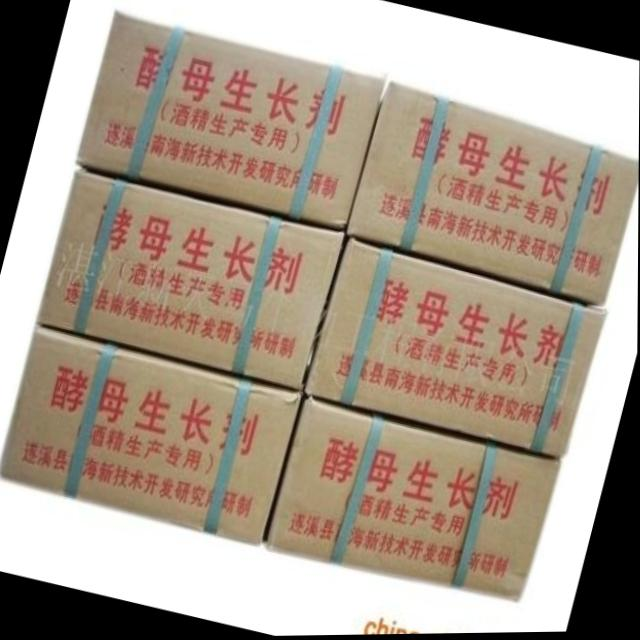box: (75, 10, 387, 232), (35, 171, 343, 392), (303, 238, 607, 460), (0, 325, 302, 546), (347, 83, 639, 306), (264, 398, 561, 602)
